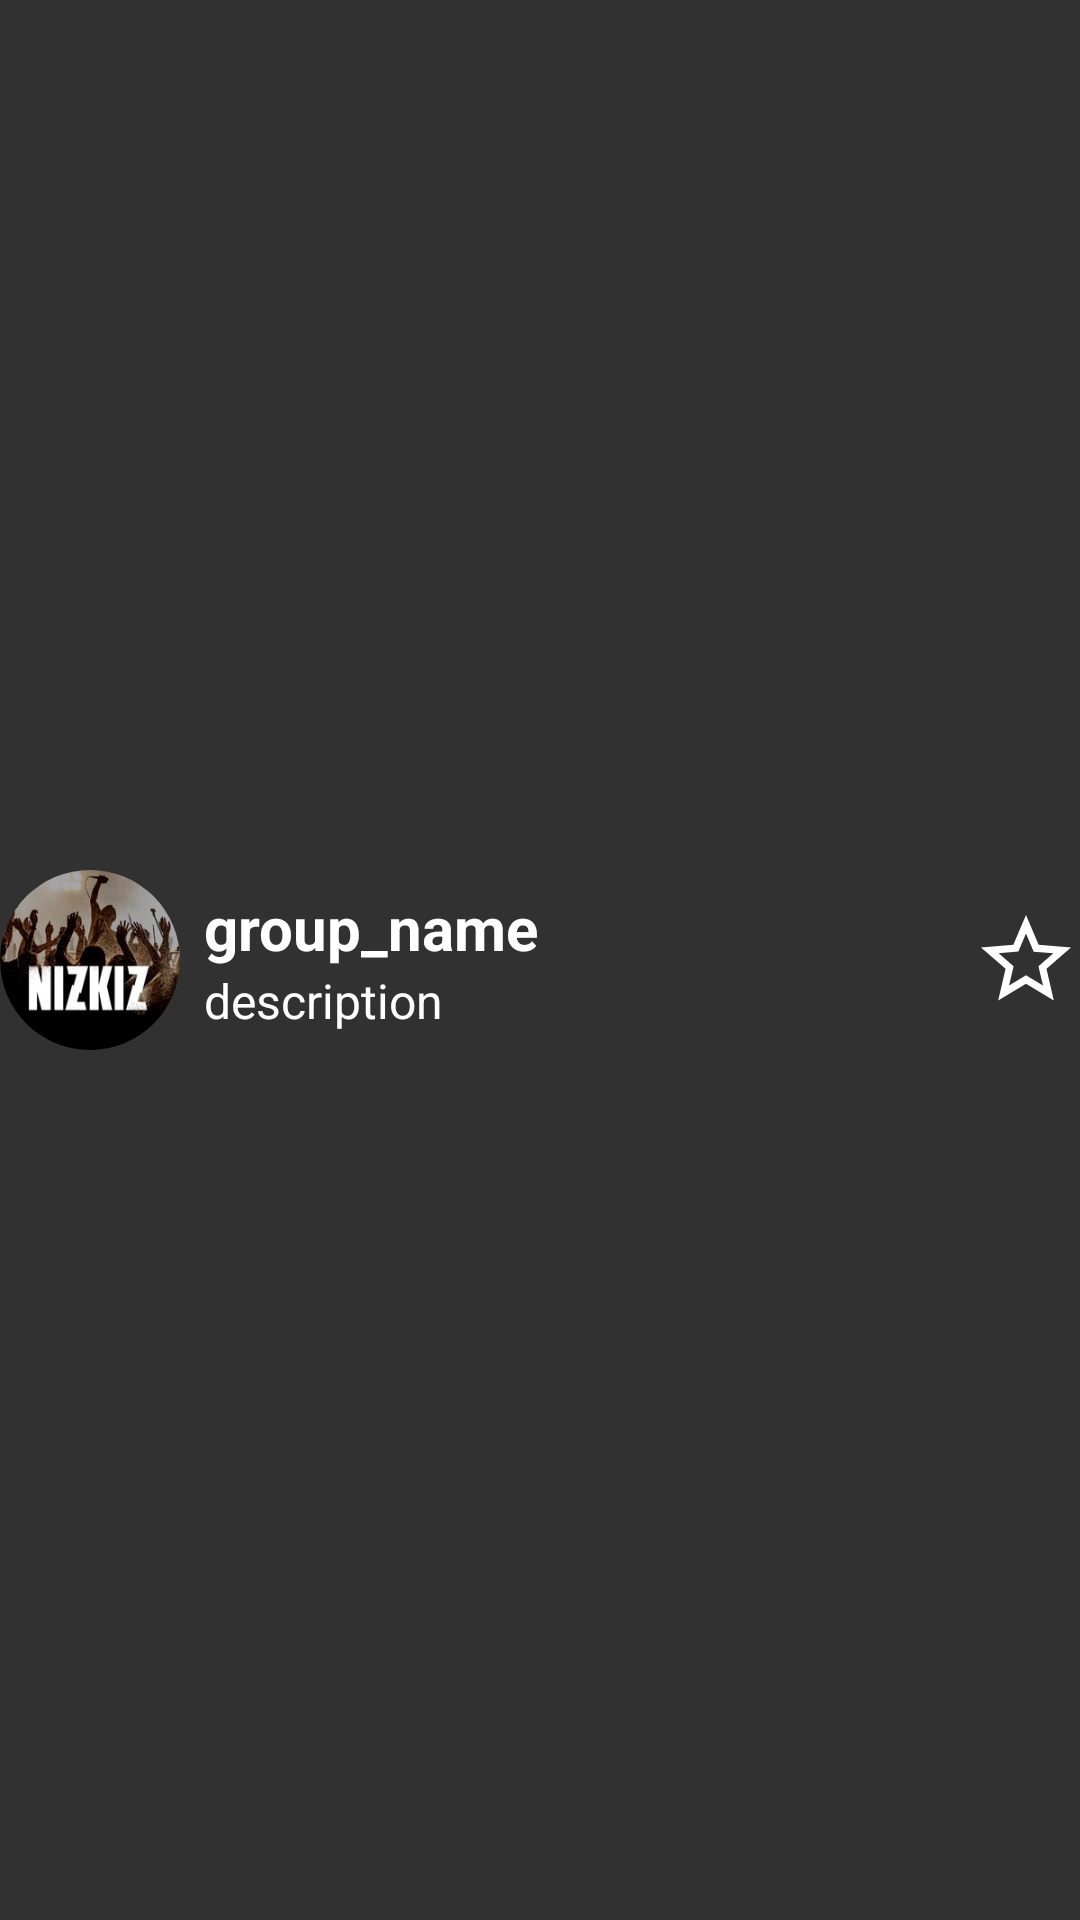

Icon click points for this 1080×1920 phone screenshot, format point (x, y):
add to favourites: point (1026, 958)
